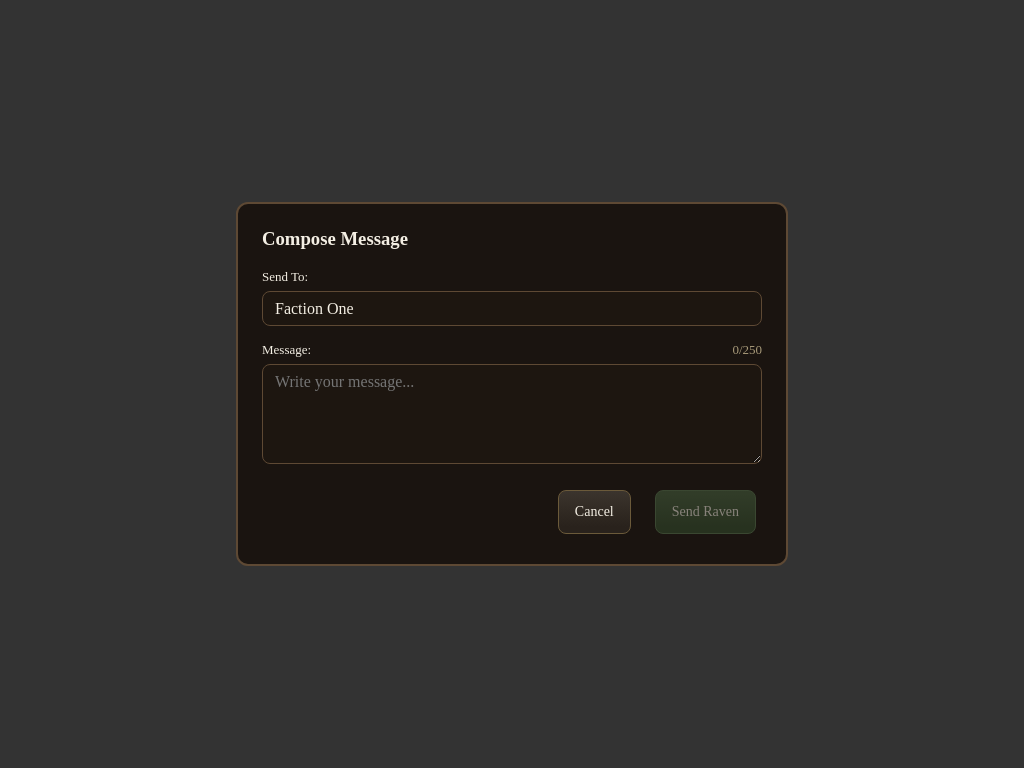
Test: MessageSystem › ComposeModal › updates character count as user types
Type "Hello" into the text box with placeholder "Write your message..." at (512, 414), box [262,364,762,464]
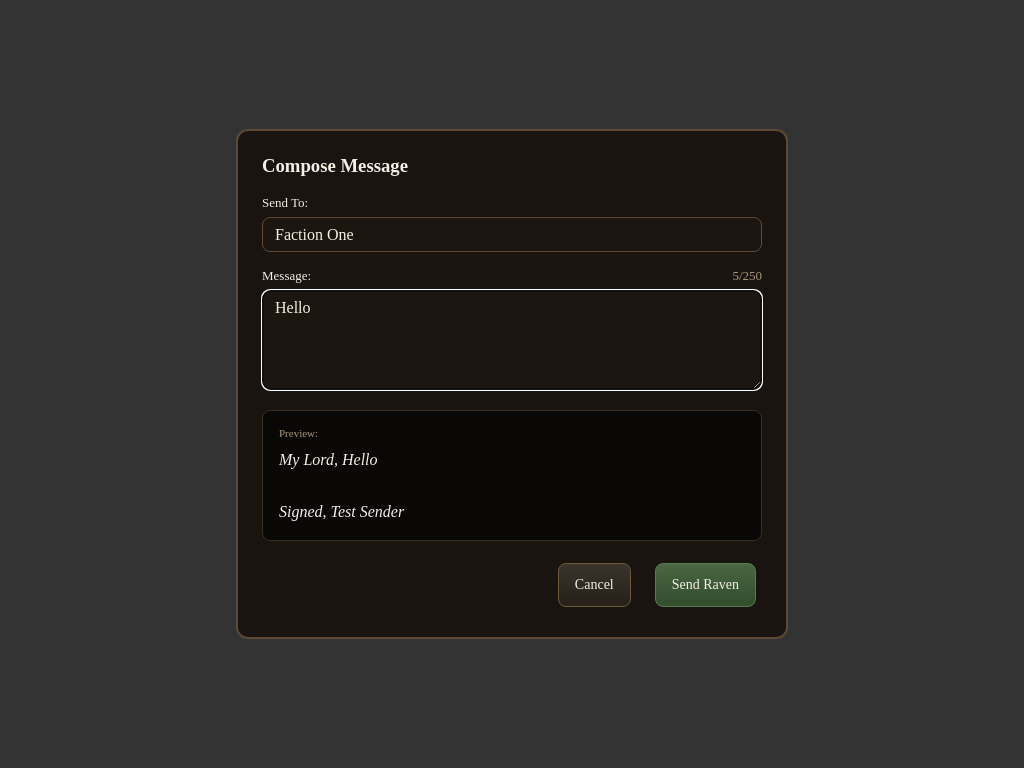
Now the text "5/250" is shown, box [732,268,762,284]
